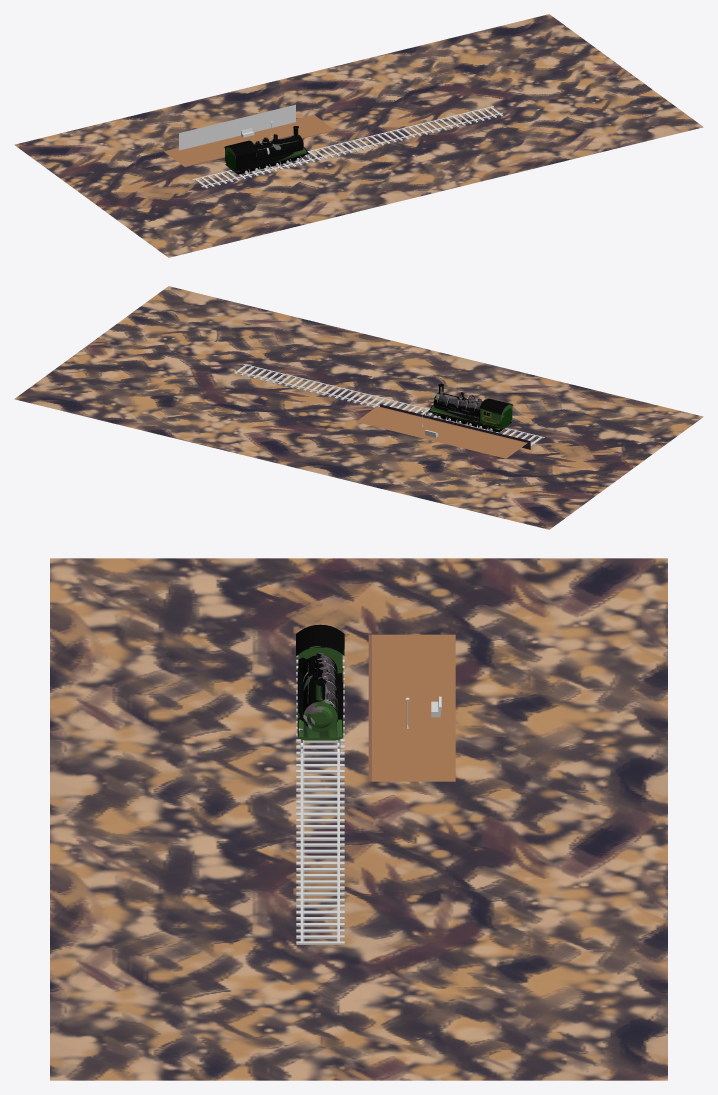
The model's file is station 1.glb.
3 views of the same model, one above another, from view 1: azimuth 30°, elevation 25°; view 2: azimuth 150°, elevation 25°; view 3: azimuth 270°, elevation 25° (orthographic). The views are drawn at different scales.
Visible parts, largest first — view 1: Plane (×2), track (×2), Engine-col, platform (×2); view 2: Plane (×2), platform (×2), Engine-col, track (×2); view 3: Plane (×2), platform (×2), track (×2), Engine-col.
Part boxes in pixels (box(x1,y1,x2,y2)): Plane (×2): box(14, 14, 703, 257); track (×2): box(192, 106, 503, 188); Engine-col: box(224, 126, 309, 174); platform (×2): box(163, 114, 335, 167); Plane (×2): box(14, 286, 703, 529); platform (×2): box(356, 404, 530, 458); Engine-col: box(427, 383, 512, 432); track (×2): box(234, 364, 544, 445); Plane (×2): box(50, 558, 667, 1080); platform (×2): box(368, 634, 455, 781); track (×2): box(296, 655, 344, 944); Engine-col: box(296, 624, 344, 740).
Size of the model in its own units: 128 by 7.7 by 64.
Materials: 5 (5 with a texture image).
